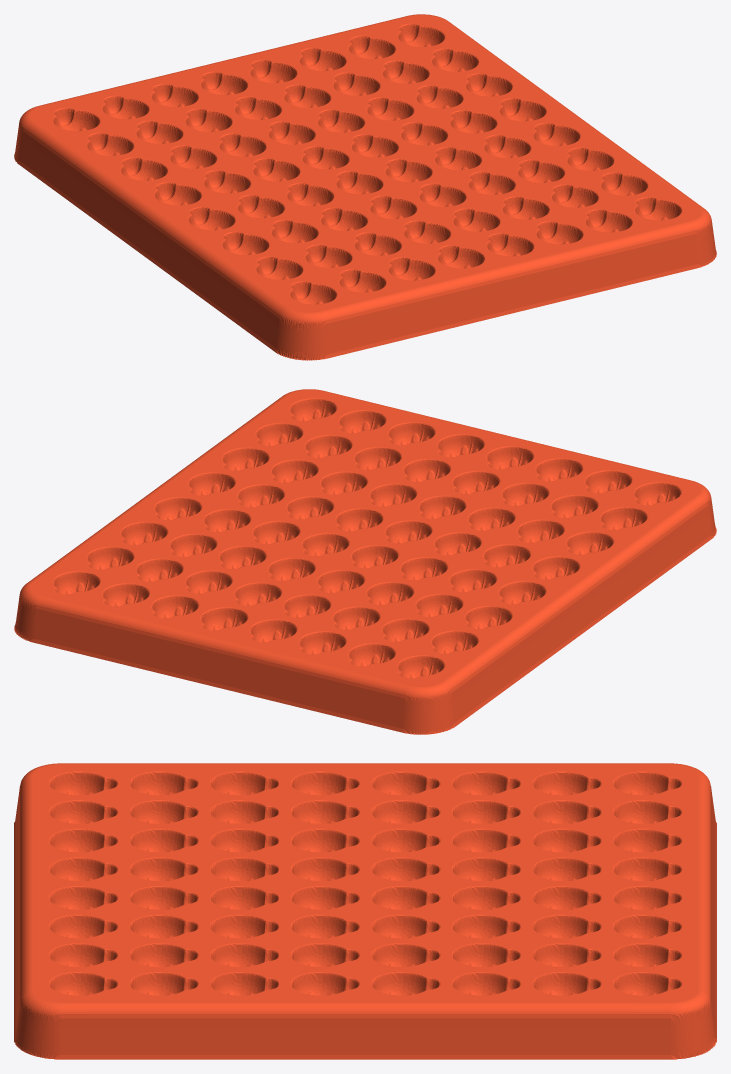
File: mold.glb
The picture shows the model from 3 angles, top to bottom: view 1: azimuth 30°, elevation 25°; view 2: azimuth 150°, elevation 25°; view 3: azimuth 270°, elevation 25°; orthographic projection. The views are drawn at different scales.
Visible parts, largest first — view 1: geometry_0; view 2: geometry_0; view 3: geometry_0.
Part boxes in pixels (x1,y1,x2,y2): geometry_0: (14, 14, 716, 360); geometry_0: (14, 389, 716, 734); geometry_0: (14, 763, 716, 1059).
Bounding box in the file's own units: 0.1157 × 0.0105 × 0.1355.
